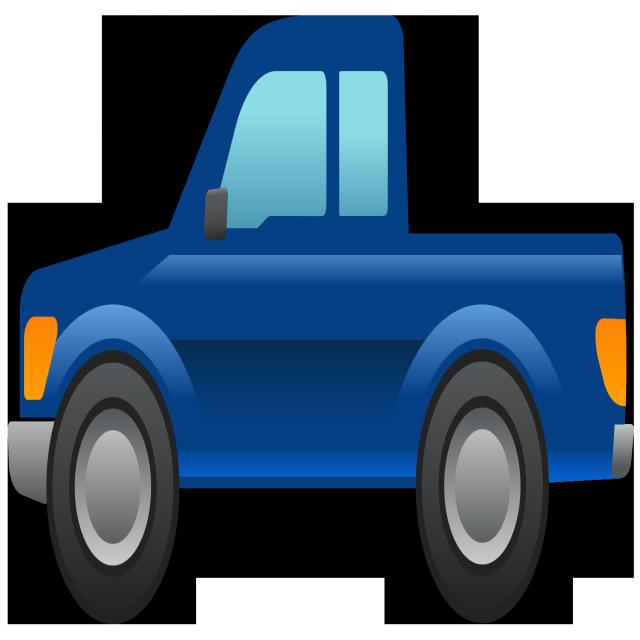truck: (14, 15, 638, 617)
